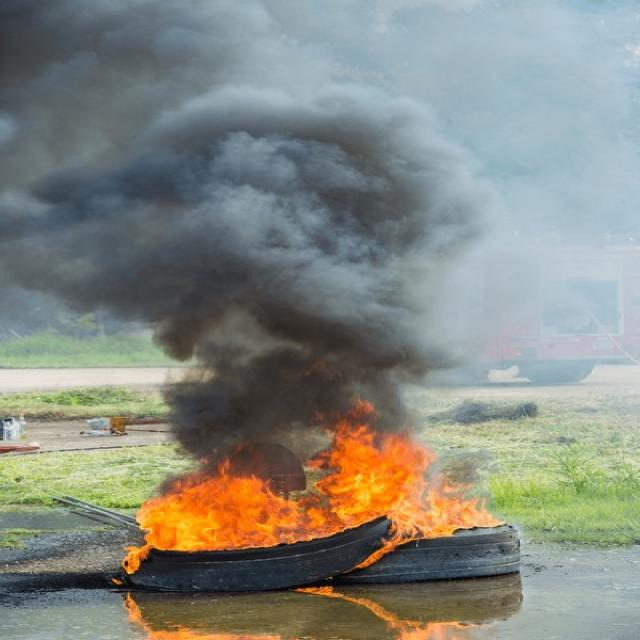fire: (309, 420, 433, 525), (136, 476, 297, 551), (424, 492, 504, 537), (352, 525, 413, 569), (297, 494, 342, 542)
